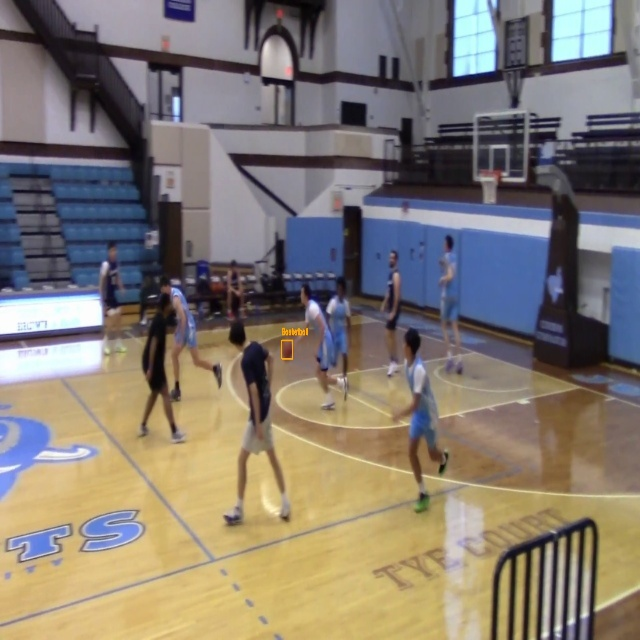Basketball: (282, 340, 293, 359)
